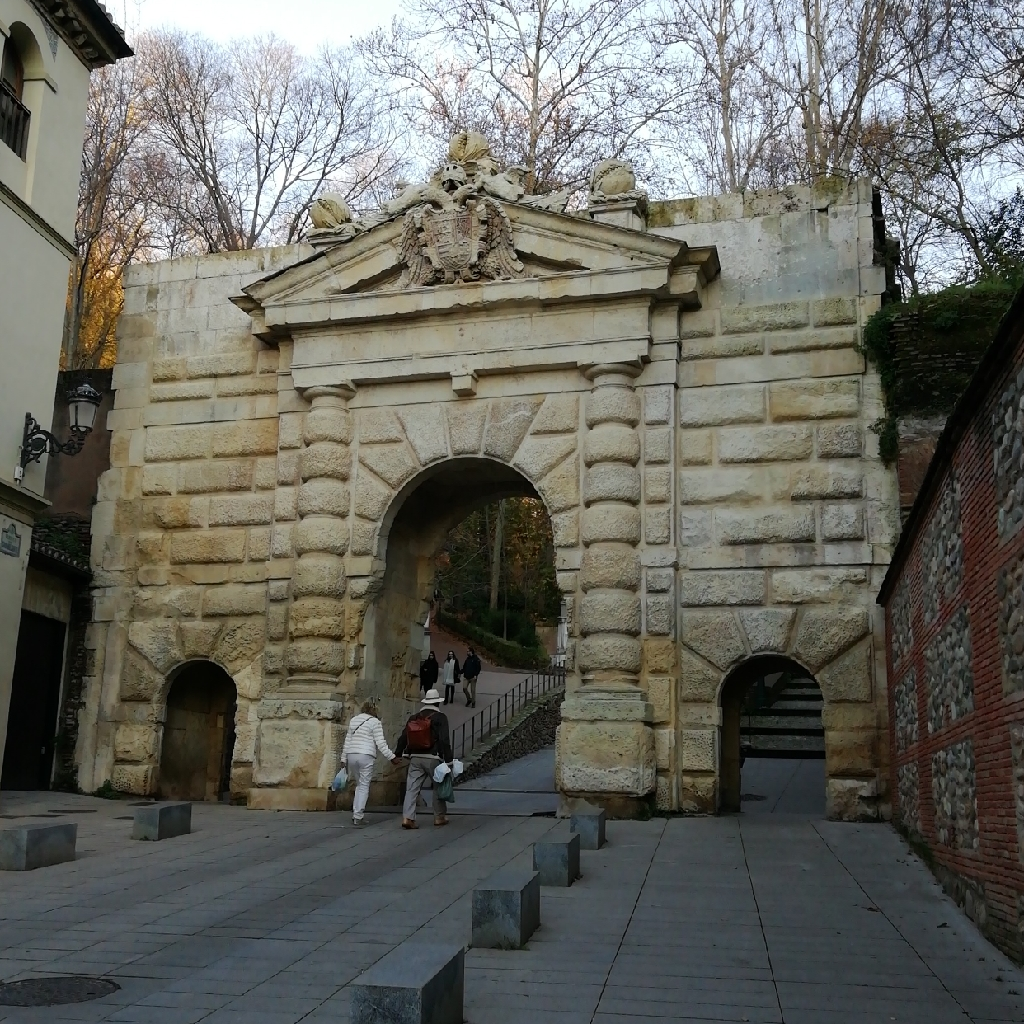arco-medio-punto: (362, 445, 565, 580), (705, 646, 831, 727), (150, 654, 239, 714)
fronton: (225, 191, 687, 324)
